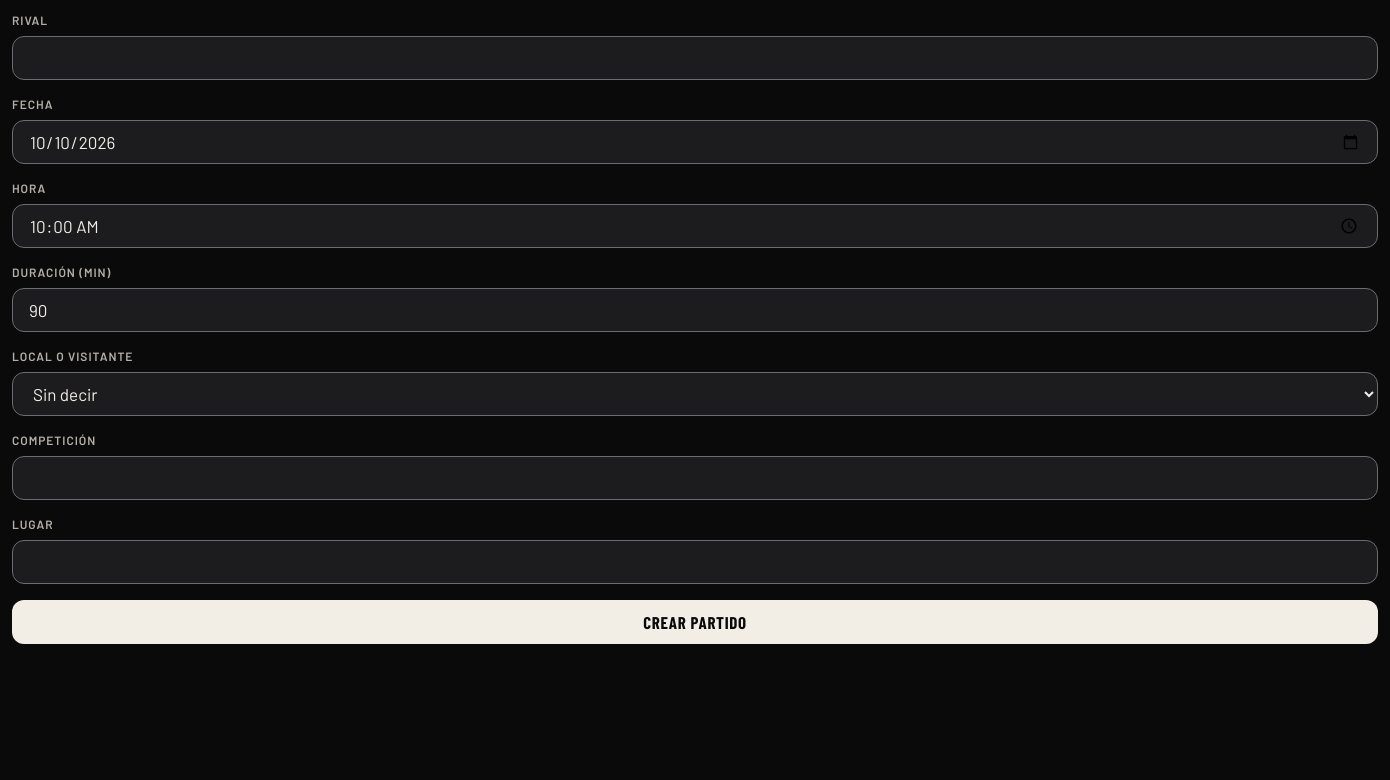
Test case: GameForm › un fallo con campos los marca
The image size is (1390, 780).
Click the button "Crear partido" at (695, 622), box [12,600,1378,644]
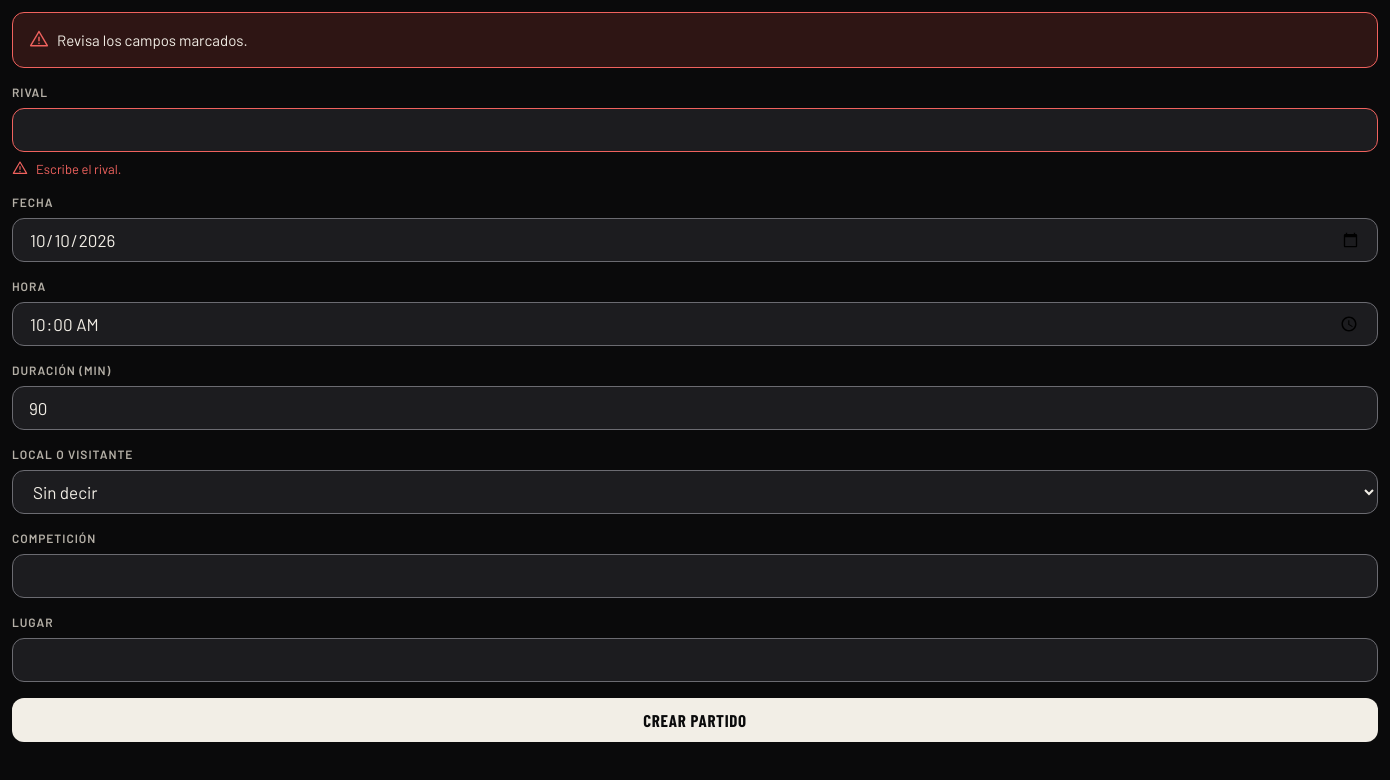
Expected: the text "Escribe el rival." is shown, [12,160,121,177]
